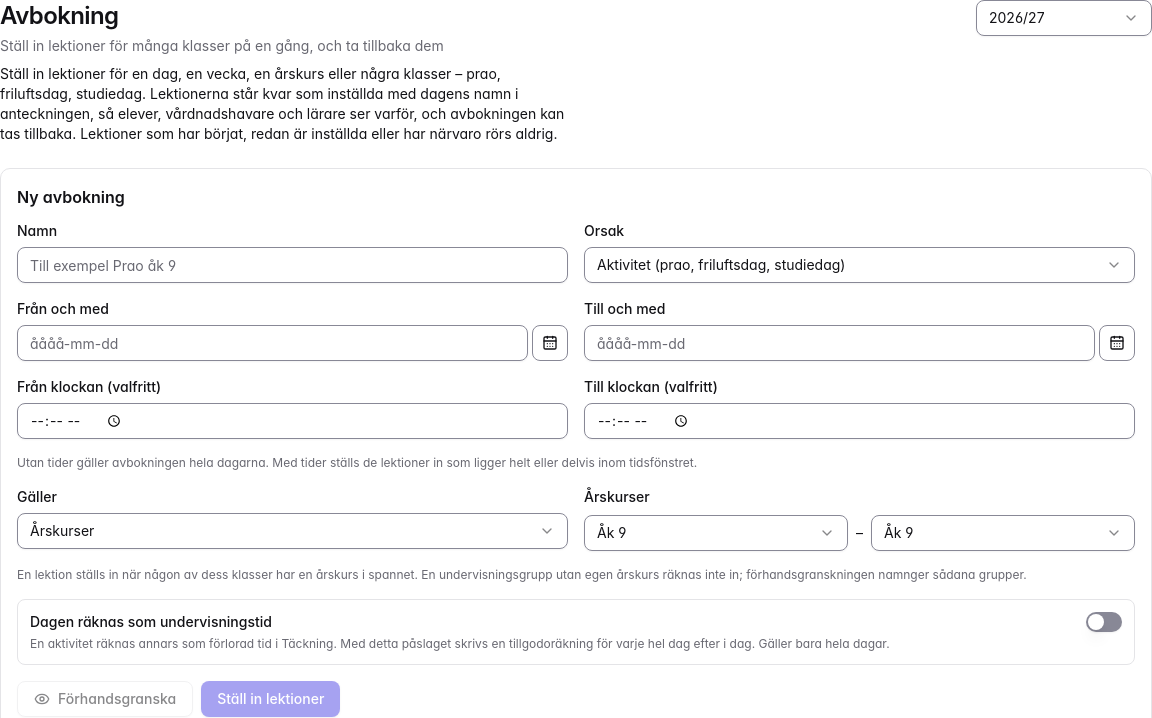
Scenario: /admin/cancellations › names the rules beside the form before anything is sent
Type "Prao" into the field labelled "Namn" at {"x": 292, "y": 265}, box left=17, top=247, right=568, bottom=283
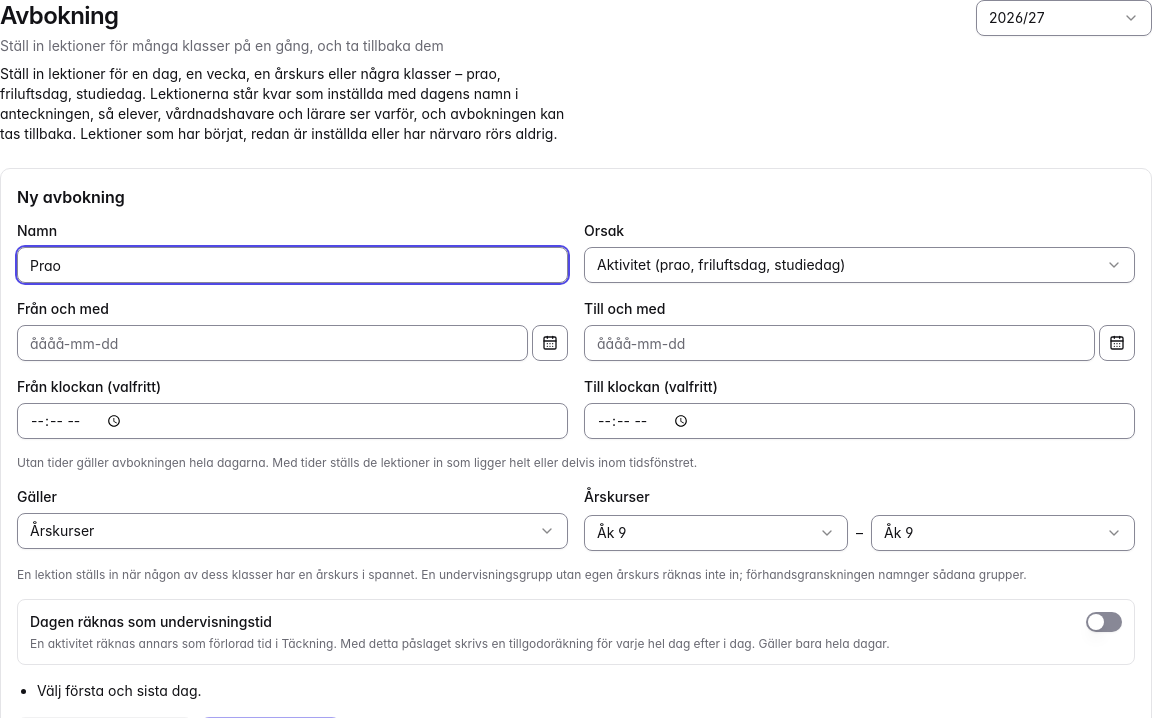
Type "2026-11-02" into the field labelled "Från och med" at {"x": 272, "y": 343}, box left=17, top=325, right=528, bottom=361
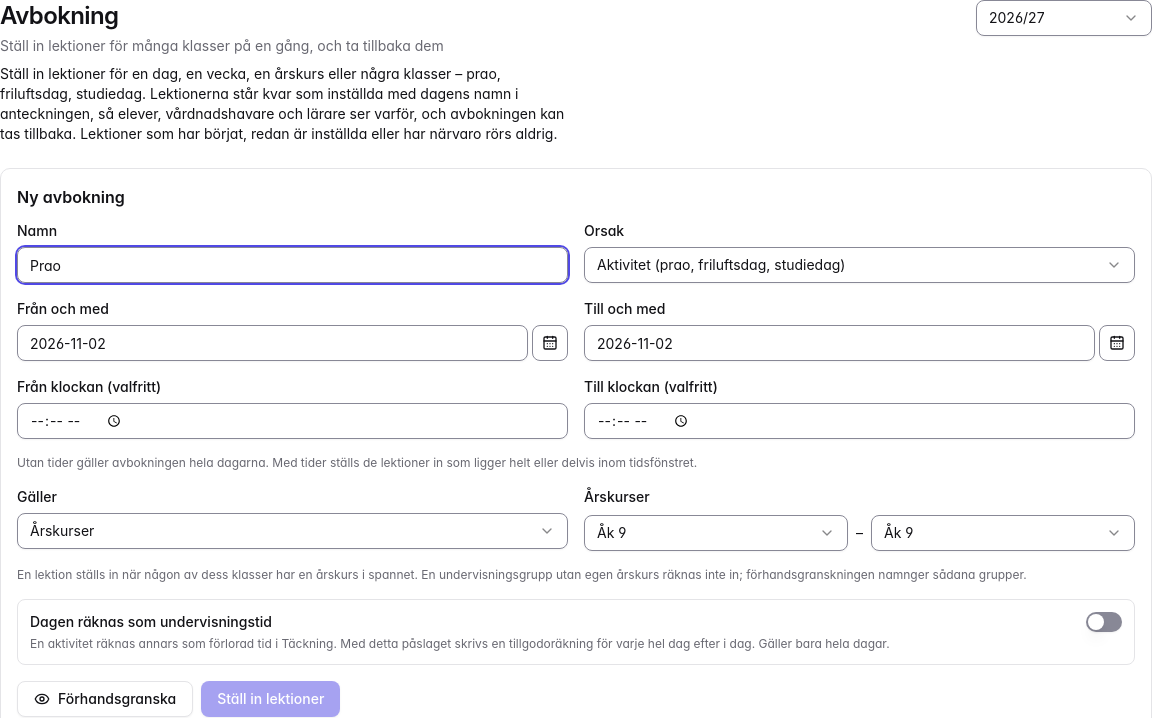
Replace the text in the field labelled "Till och med" with "2026-12-10" at {"x": 840, "y": 343}, box left=584, top=325, right=1095, bottom=361
(page scrolled)
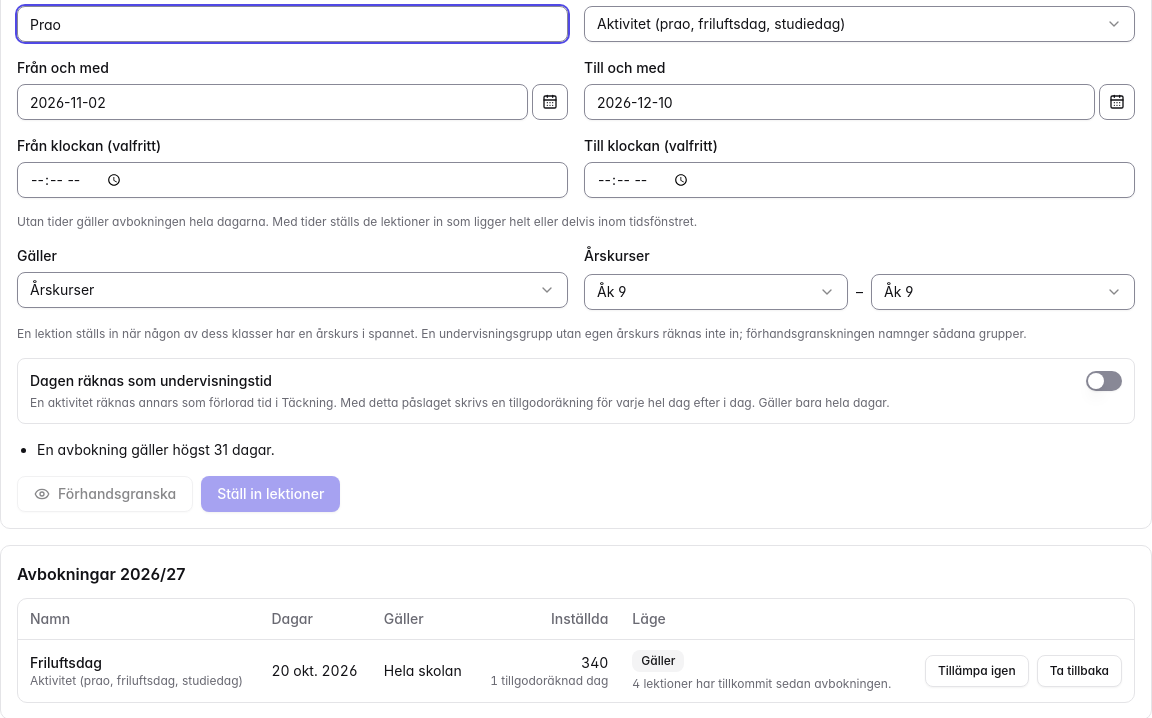
Expected: the list item "En avbokning gäller högst 31 dagar." is shown, left=37, top=441, right=275, bottom=458
Expected: the button "Förhandsgranska" is disabled, left=17, top=476, right=193, bottom=512
